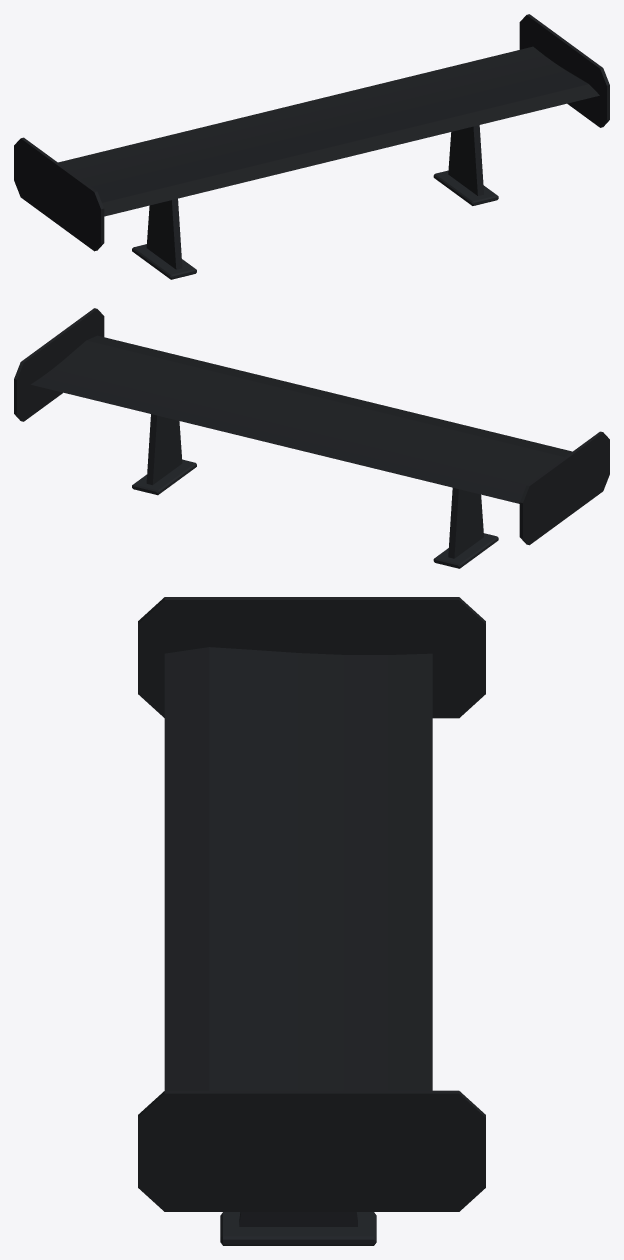
Rendered from ridgeback_4x4.glb.
3 views of the same model, one above another, from view 1: azimuth 30°, elevation 25°; view 2: azimuth 150°, elevation 25°; view 3: azimuth 270°, elevation 25° (orthographic). The views are drawn at different scales.
Visible parts, largest first — view 1: wing_element, model; view 2: wing_element, model; view 3: wing_element, model.
Boxes of the visible parts, box(x1,y1,x2,y2) form: wing_element: box(14, 14, 609, 251); model: box(132, 125, 498, 279); wing_element: box(14, 308, 609, 545); model: box(132, 414, 498, 568); wing_element: box(138, 597, 485, 1211); model: box(220, 1212, 376, 1245).
Size of the model in its own units: 1.32 by 0.298 by 0.3899.
Materials: 2 (1 with a texture image).
